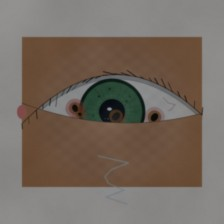foreign_body_visible: (56, 93, 94, 123)
